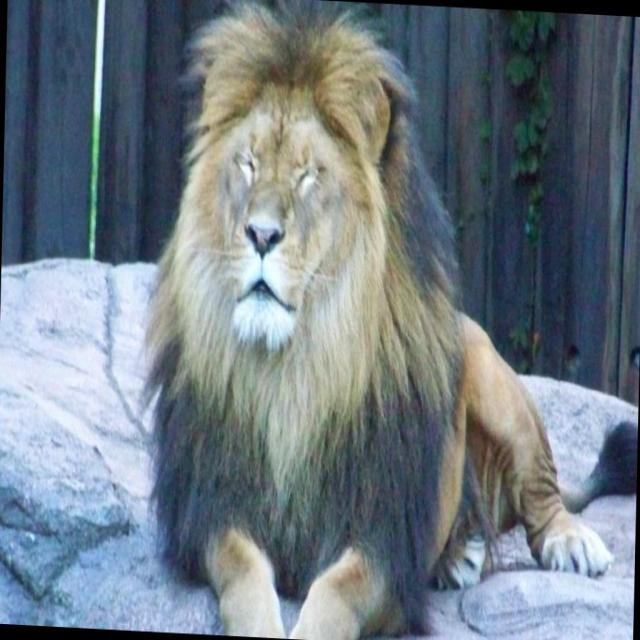Lion: (135, 0, 621, 639)
